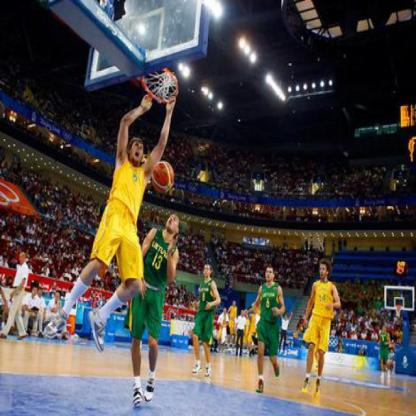basketball: (148, 162, 176, 193)
